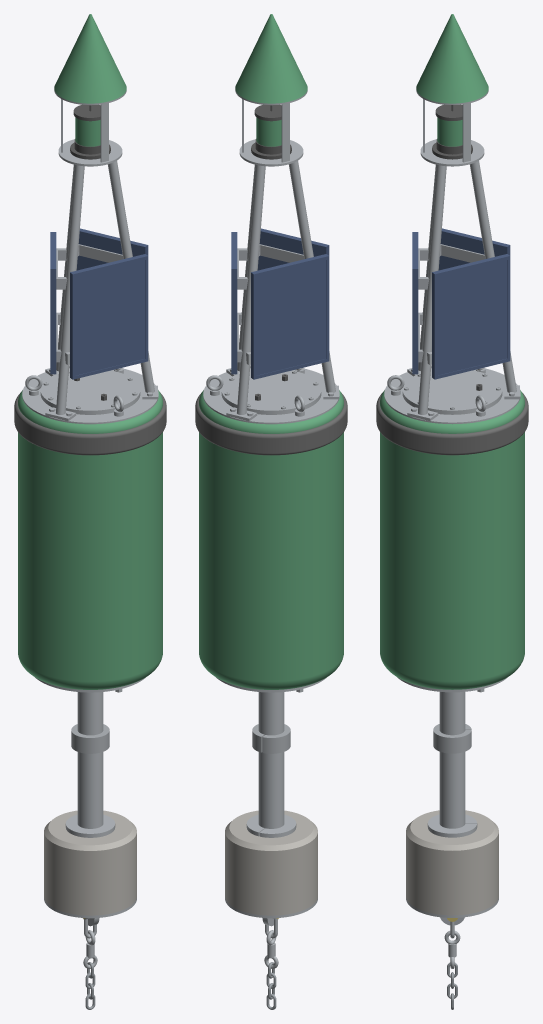
File: step_06.glb
3 views of the same model, side by side, from view 1: azimuth 30°, elevation 25°; view 2: azimuth 150°, elevation 25°; view 3: azimuth 270°, elevation 25° (orthographic).
Visible parts, largest first — view 1: part__float hull, part__solar panel 1, part__ballast ring, part__topmark, part__fender ring, part__tail tube, part__hatch lid, part__tripod leg 2, part__deck plate, part__tripod leg 3, part__solar panel 2, part__solar panel 3 (+9 smaller); view 2: part__float hull, part__solar panel 3, part__ballast ring, part__topmark, part__fender ring, part__tail tube, part__hatch lid, part__tripod leg 1, part__deck plate, part__tripod leg 2, part__solar panel 1, part__solar panel 2 (+9 smaller); view 3: part__float hull, part__solar panel 2, part__ballast ring, part__topmark, part__fender ring, part__tail tube, part__hatch lid, part__tripod leg 3, part__deck plate, part__tripod leg 1, part__solar panel 3, part__solar panel 1 (+9 smaller).
Boxes of the visible parts, x1=… form: part__float hull: x1=18, y1=390, x2=162, y2=689; part__solar panel 1: x1=70, y1=254, x2=148, y2=379; part__ballast ring: x1=44, y1=810, x2=136, y2=915; part__topmark: x1=54, y1=14, x2=126, y2=103; part__fender ring: x1=14, y1=392, x2=166, y2=455; part__tail tube: x1=44, y1=692, x2=136, y2=918; part__hatch lid: x1=40, y1=370, x2=140, y2=412; part__tripod leg 2: x1=45, y1=165, x2=84, y2=421; part__deck plate: x1=22, y1=369, x2=158, y2=424; part__tripod leg 3: x1=107, y1=161, x2=157, y2=399; part__solar panel 2: x1=76, y1=228, x2=148, y2=270; part__solar panel 3: x1=50, y1=232, x2=56, y2=374; part__float hull: x1=199, y1=390, x2=343, y2=689; part__solar panel 3: x1=251, y1=254, x2=329, y2=379; part__ballast ring: x1=225, y1=810, x2=317, y2=915; part__topmark: x1=235, y1=14, x2=307, y2=103; part__fender ring: x1=195, y1=392, x2=347, y2=455; part__tail tube: x1=225, y1=692, x2=317, y2=918; part__hatch lid: x1=221, y1=370, x2=321, y2=412; part__tripod leg 1: x1=226, y1=165, x2=265, y2=421; part__deck plate: x1=203, y1=369, x2=339, y2=424; part__tripod leg 2: x1=288, y1=161, x2=338, y2=399; part__solar panel 1: x1=257, y1=228, x2=329, y2=270; part__solar panel 2: x1=231, y1=232, x2=237, y2=374; part__float hull: x1=380, y1=390, x2=524, y2=689; part__solar panel 2: x1=432, y1=254, x2=510, y2=379; part__ballast ring: x1=406, y1=810, x2=498, y2=915; part__topmark: x1=416, y1=14, x2=488, y2=103; part__fender ring: x1=376, y1=392, x2=528, y2=455; part__tail tube: x1=406, y1=692, x2=498, y2=917; part__hatch lid: x1=402, y1=370, x2=502, y2=412; part__tripod leg 3: x1=407, y1=165, x2=446, y2=420; part__deck plate: x1=384, y1=368, x2=520, y2=424; part__tripod leg 1: x1=469, y1=161, x2=519, y2=399; part__solar panel 3: x1=438, y1=228, x2=510, y2=270; part__solar panel 1: x1=412, y1=232, x2=418, y2=374.
Size of the model in its own units: 524 by 3778 by 524.
